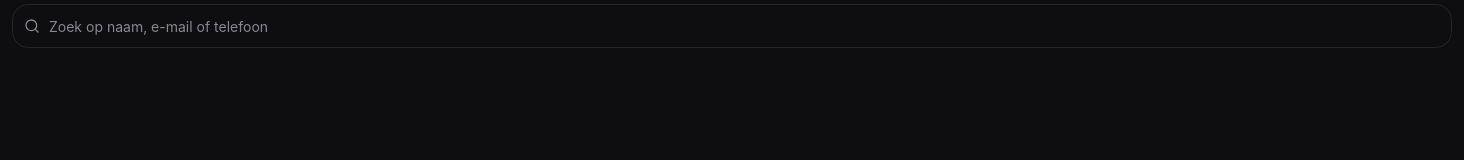
CustomerPicker › geen klant gevonden
Type "xyz" into the dropdown at (732, 26), box [12,4,1452,48]
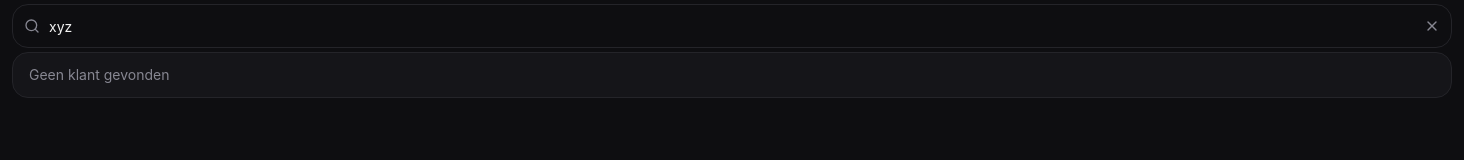
expect the list item "Geen klant gevonden" is shown: met, box [29,66,170,83]
